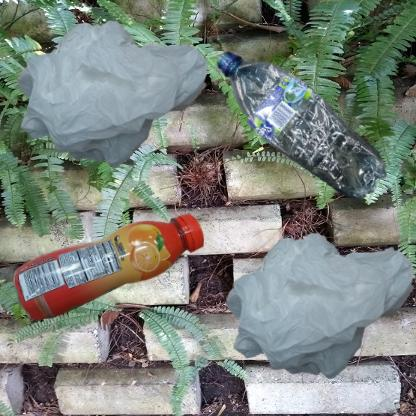bolsa: (213, 213, 416, 409), (10, 10, 223, 182)
botella: (213, 10, 416, 287), (10, 213, 213, 323)
